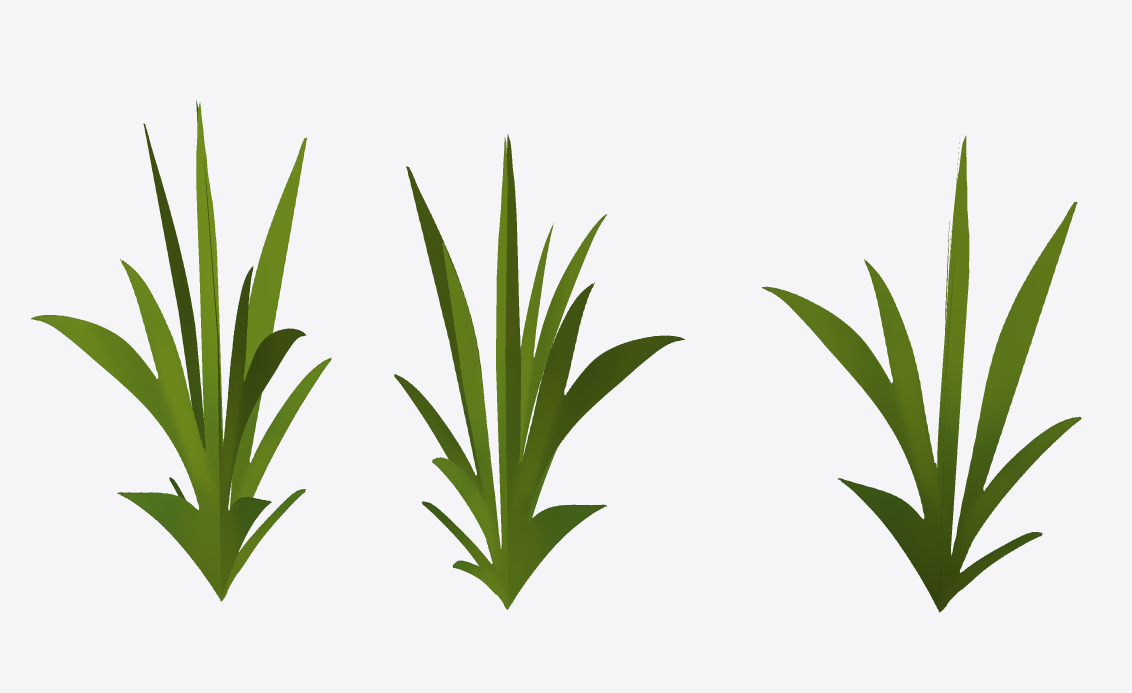
The model's file is Cam_AR_grass_003.FBX.
3 renders of one model, left to right at view 1: azimuth 30°, elevation 25°; view 2: azimuth 150°, elevation 25°; view 3: azimuth 270°, elevation 25°, orthographic. The views are drawn at different scales.
Visible parts, largest first — view 1: AR_grass_003; view 2: AR_grass_003; view 3: AR_grass_003.
Boxes of the visible parts, x1=… form: AR_grass_003: x1=31, y1=100, x2=331, y2=601; AR_grass_003: x1=394, y1=134, x2=684, y2=609; AR_grass_003: x1=761, y1=135, x2=1081, y2=612.
Bounding box in the file's own units: 17.05 × 28.55 × 18.85.
